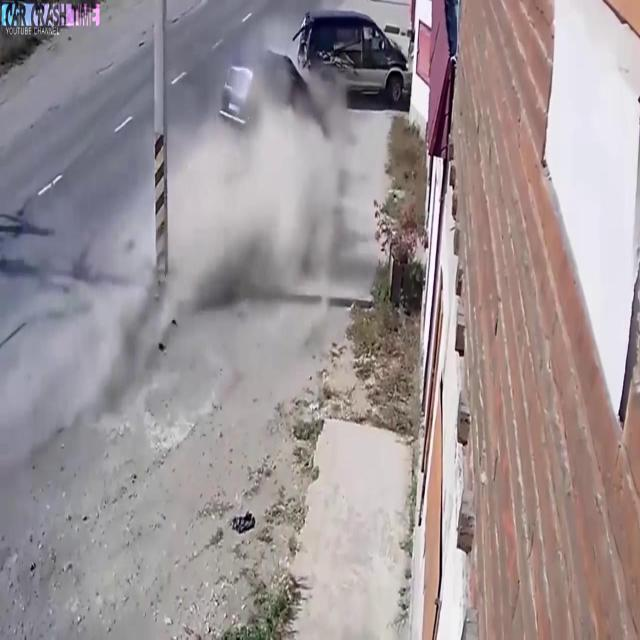accident: (206, 5, 420, 178)
